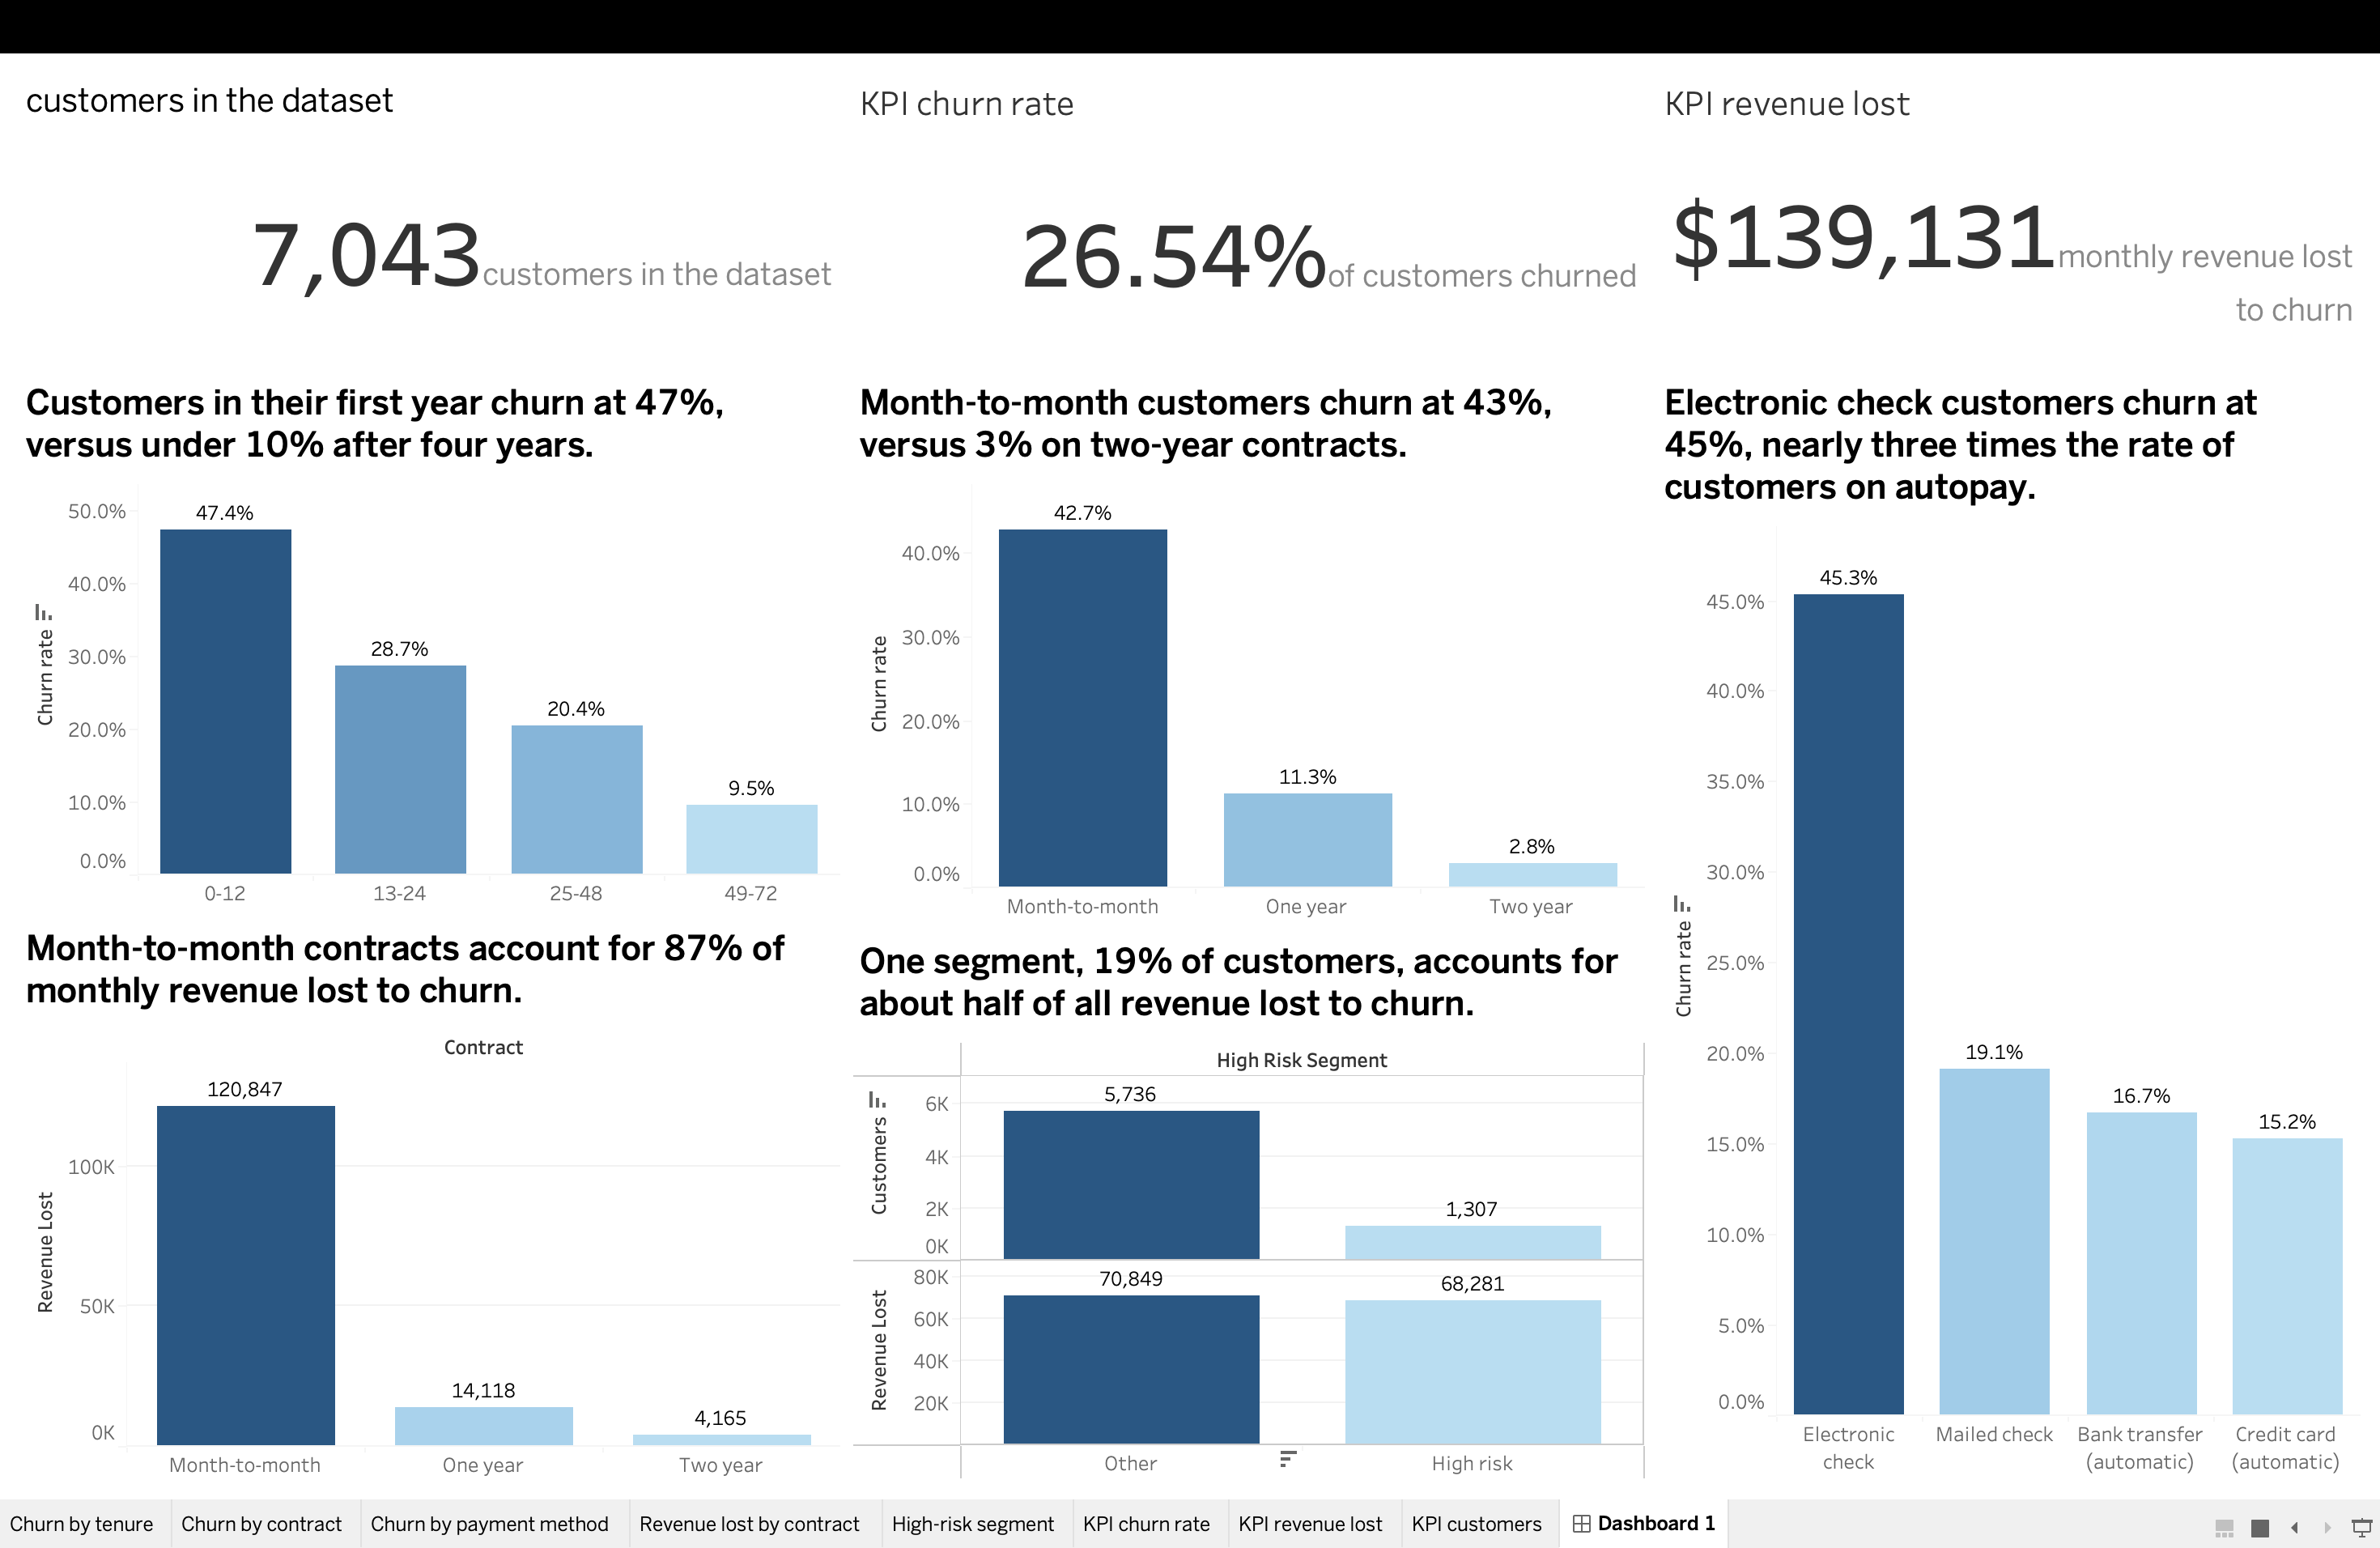

This screenshot's page, from the dashboard's own definition file:
{"tool":"tableau","page":{"name":"Dashboard 1","canvas":[1000,1000],"units":"permille","ordinal":0},"visuals":[{"type":"worksheet","title":"KPI customers","mark":"Automatic","box":[6.4,9.6,349.6,209.3]},{"type":"worksheet","title":"KPI churn rate","mark":"Automatic","box":[356,9.6,337.7,209.3]},{"type":"worksheet","title":"KPI revenue lost","mark":"Automatic","box":[693.6,9.6,300,209.3]},{"type":"worksheet","title":"Churn by tenure","mark":"Automatic","rows":["churn_flag"],"cols":["tenure_group"],"box":[6.4,219,349.6,376.7]},{"type":"worksheet","title":"Churn by contract","mark":"Automatic","rows":["churn_flag"],"cols":["Contract"],"box":[356,219,337.7,385.7]},{"type":"worksheet","title":"Churn by payment method","mark":"Automatic","rows":["churn_flag"],"cols":["PaymentMethod"],"box":[693.6,219,300,771.4]},{"type":"worksheet","title":"Revenue lost by contract","mark":"Automatic","rows":["Calculation_1507068144377856"],"cols":["Contract"],"box":[6.4,595.6,349.6,394.8]},{"type":"worksheet","title":"High-risk segment","mark":"Automatic","rows":["Calculation_1507068144783361","Calculation_1507068144377856"],"cols":["high_risk_segment"],"box":[356,604.6,337.7,385.7]}]}

Visuals, with their boxes on the dashboard's canvas, which has no fixed pixel size, in thousandths of its width and height (x1, y1, x2, y2). These are canvas units, not pixel positions in the 2380x1548 screenshot, which may show the page scaled, cropped or inside an application window:
"KPI customers" worksheet: region(6, 10, 356, 219)
"KPI churn rate" worksheet: region(356, 10, 694, 219)
"KPI revenue lost" worksheet: region(694, 10, 994, 219)
"Churn by tenure" worksheet: region(6, 219, 356, 596)
"Churn by contract" worksheet: region(356, 219, 694, 605)
"Churn by payment method" worksheet: region(694, 219, 994, 990)
"Revenue lost by contract" worksheet: region(6, 596, 356, 990)
"High-risk segment" worksheet: region(356, 605, 694, 990)
